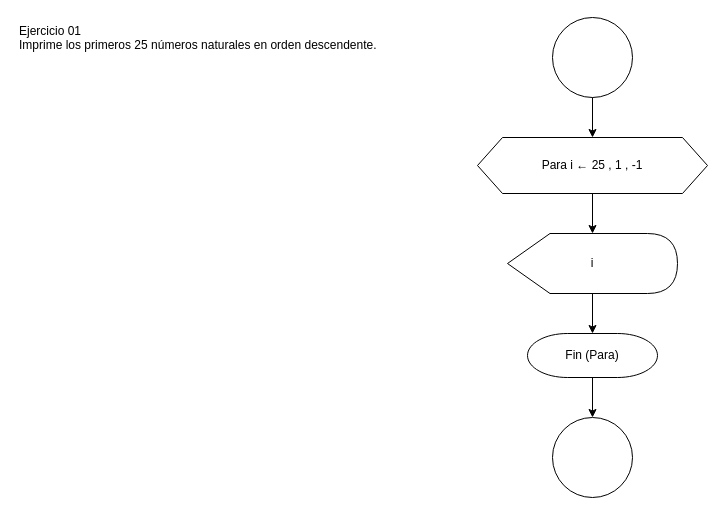
The diagram is 725 pixels wide and 515 high, and some of its shapes have lost their labels. Each missing label, with the centre of its shape:
"Fin" belongs at (592,457).
"Inicio" belongs at (592,57).
